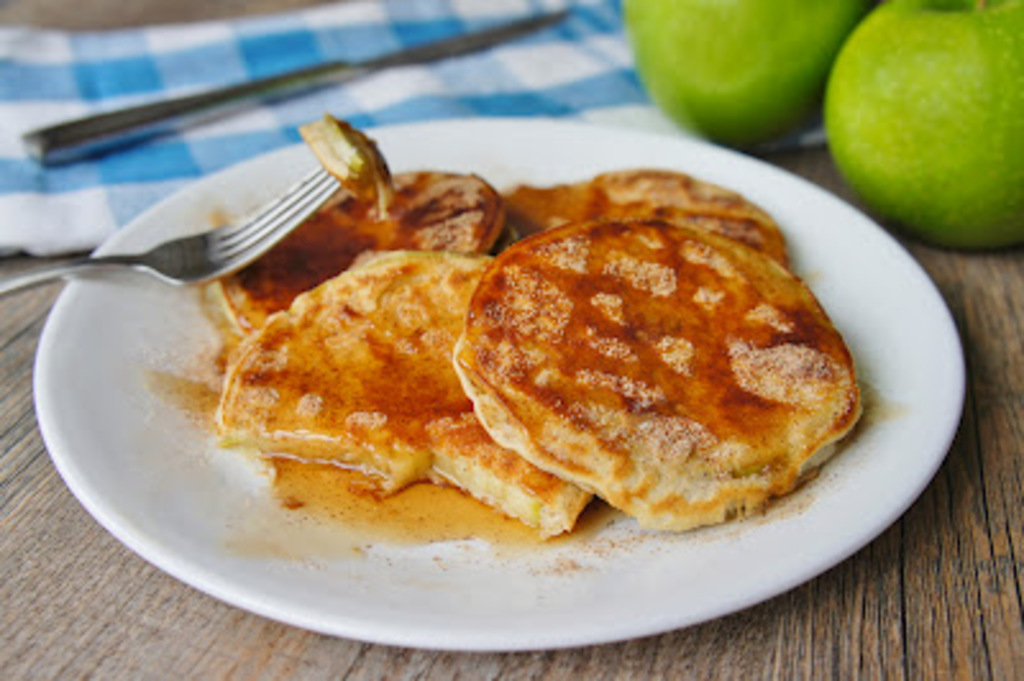Apple: (832, 23, 1013, 248), (622, 0, 870, 151)
